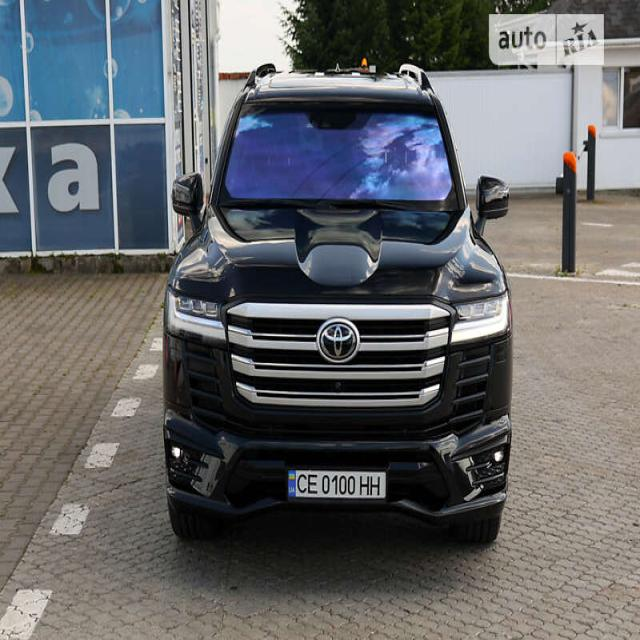plate: (279, 458, 392, 518)
